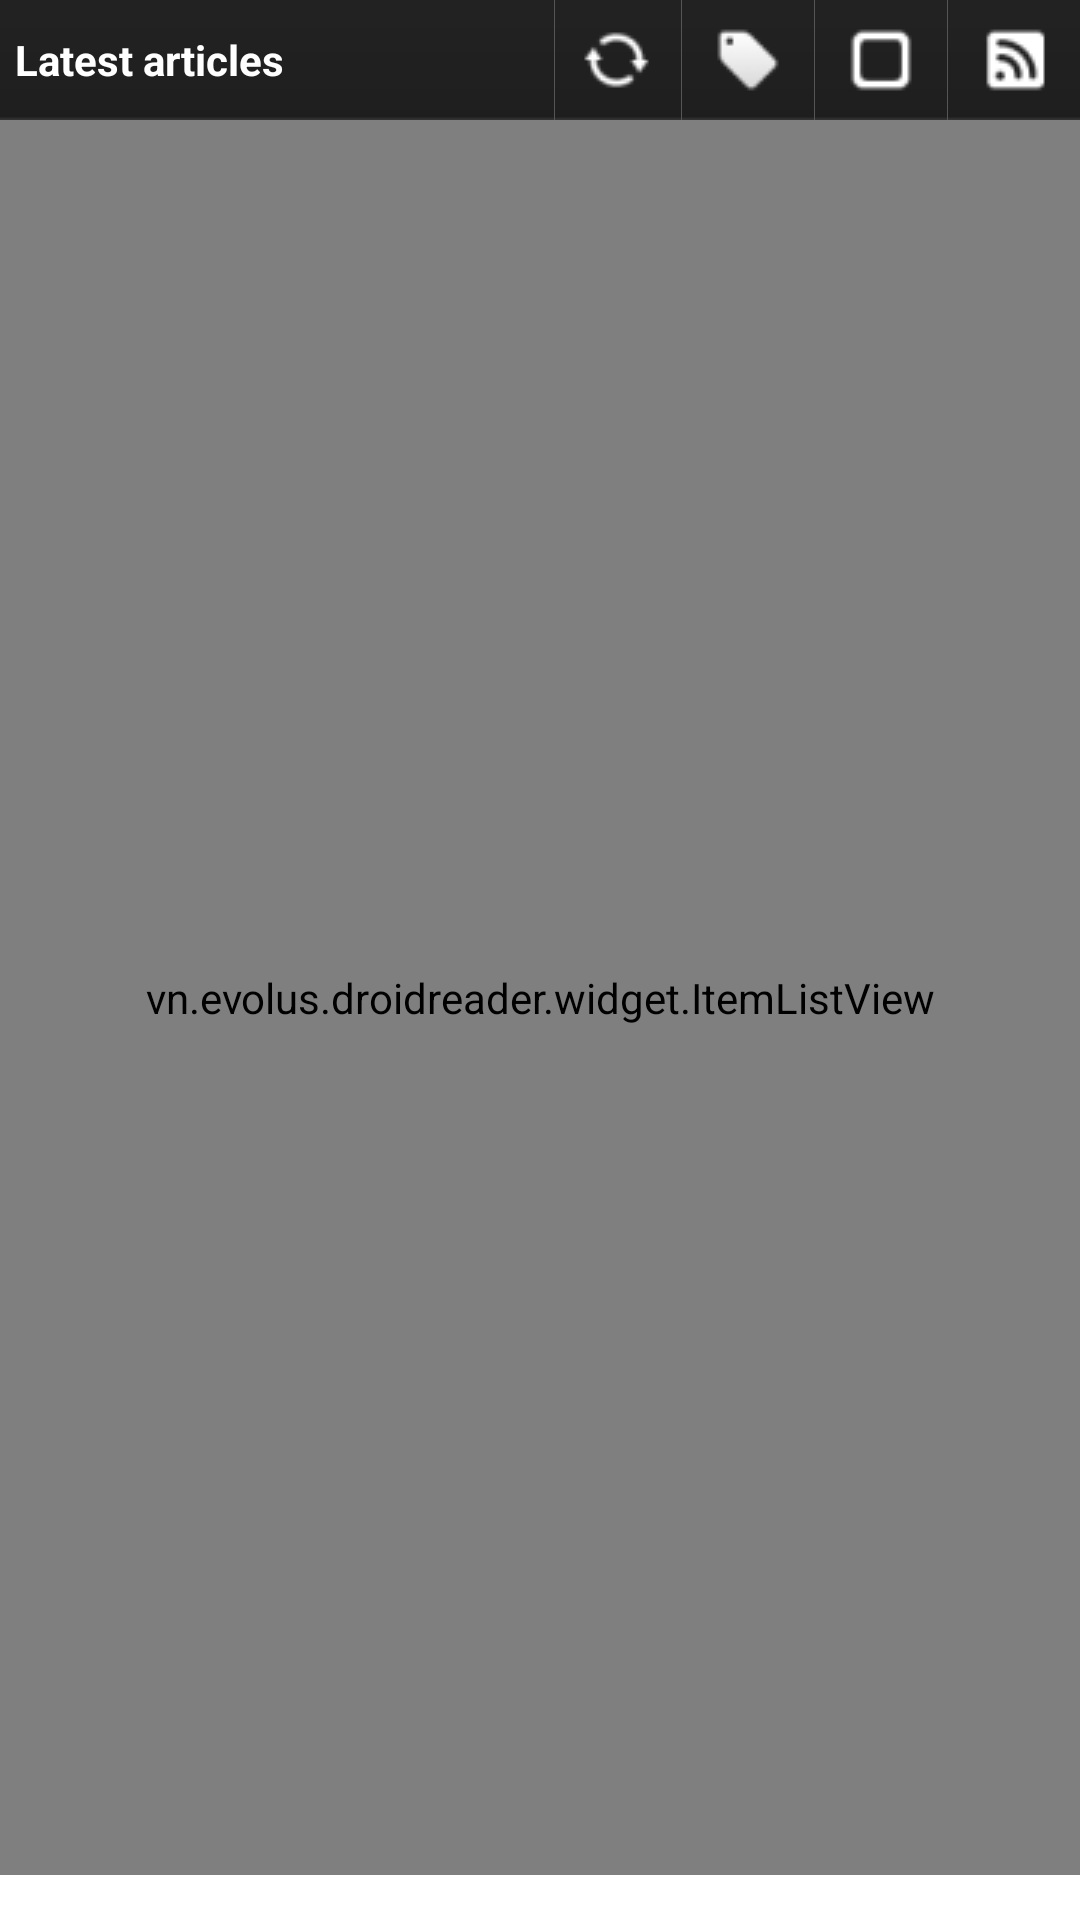

Named icons in this screenshot (1080*1920) and their bounding boxes, (x1, y1, x2, y2):
feeds: (986, 29, 1045, 91)
tag: (717, 29, 778, 90)
